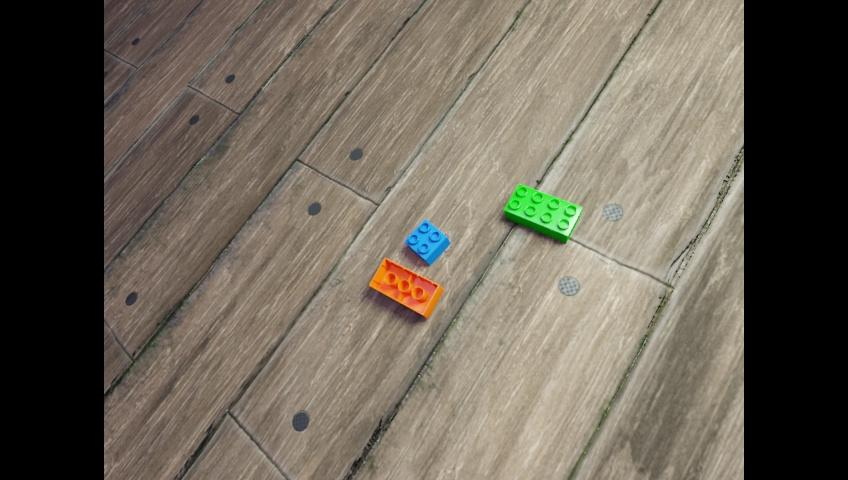2x2_blue: (404, 219, 449, 265)
4x2_green: (504, 183, 581, 243)
4x2_orange: (369, 257, 443, 318)
